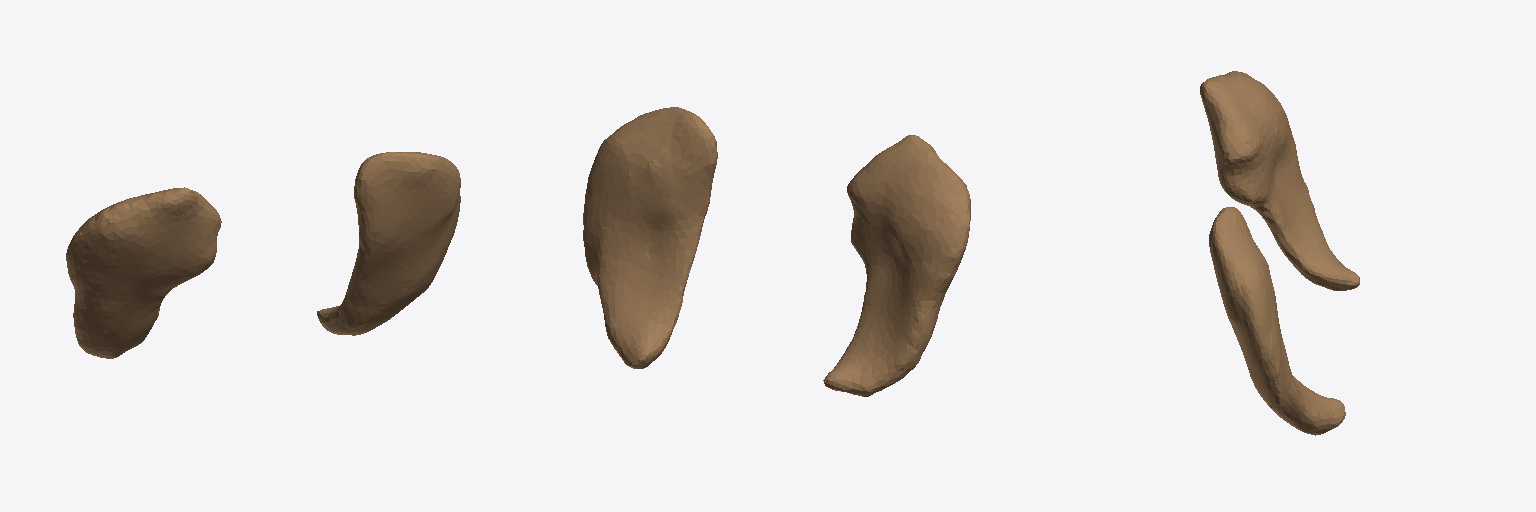
The model's file is hippocampus.obj.
The picture shows the model from 3 angles: view 1: azimuth 30°, elevation 25°; view 2: azimuth 150°, elevation 25°; view 3: azimuth 270°, elevation 25°; orthographic projection.
Parts seen in each view (by area): view 1: Hippocampus_hippocampus; view 2: Hippocampus_hippocampus; view 3: Hippocampus_hippocampus.
Part boxes in pixels (left/top/right/bottom): Hippocampus_hippocampus: left=66, top=152, right=460, bottom=358; Hippocampus_hippocampus: left=583, top=107, right=970, bottom=396; Hippocampus_hippocampus: left=1200, top=71, right=1359, bottom=435.
Bounding box in the file's own units: 188 × 113 × 67.81.